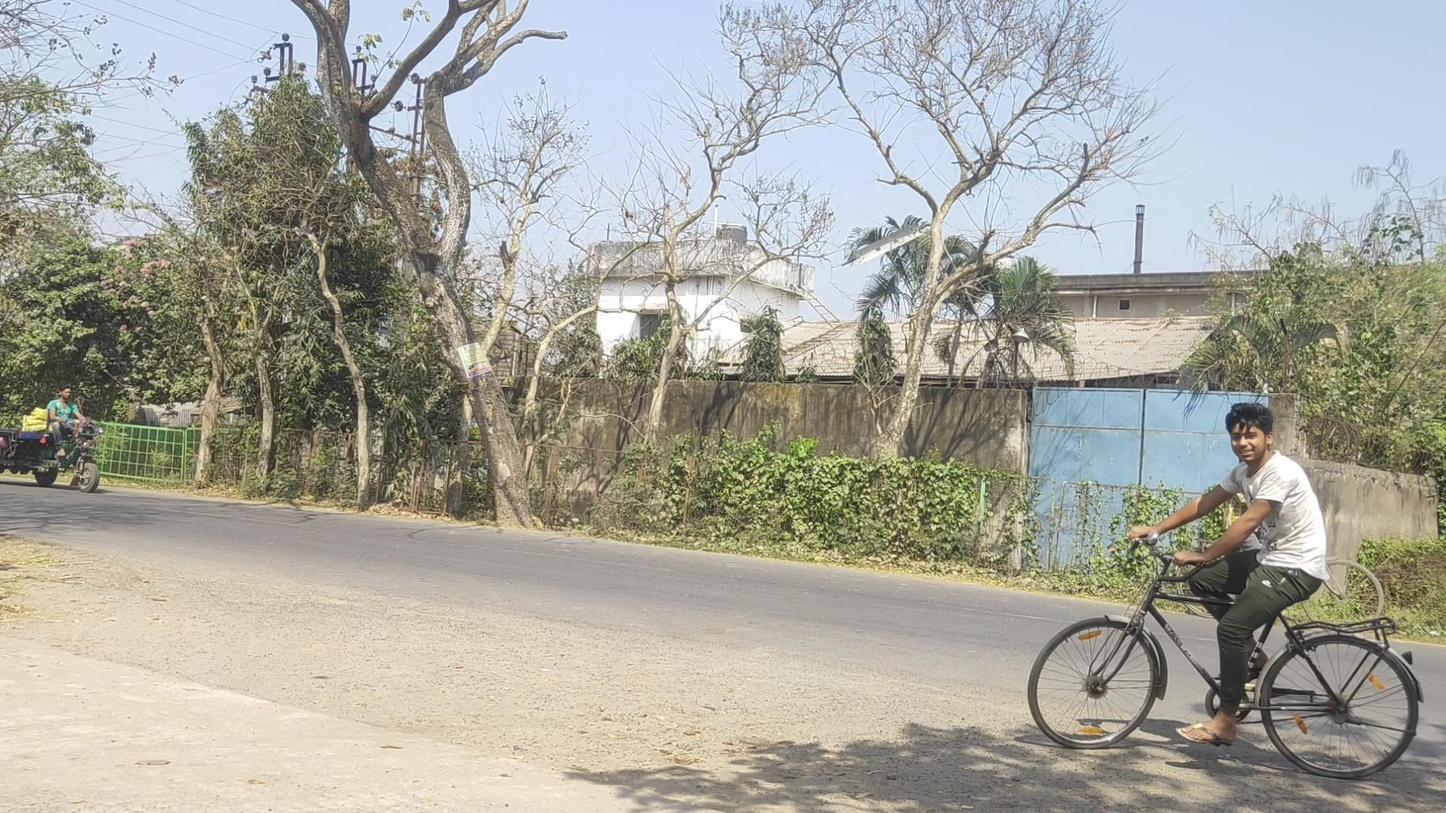bike: (1027, 403, 1425, 781)
